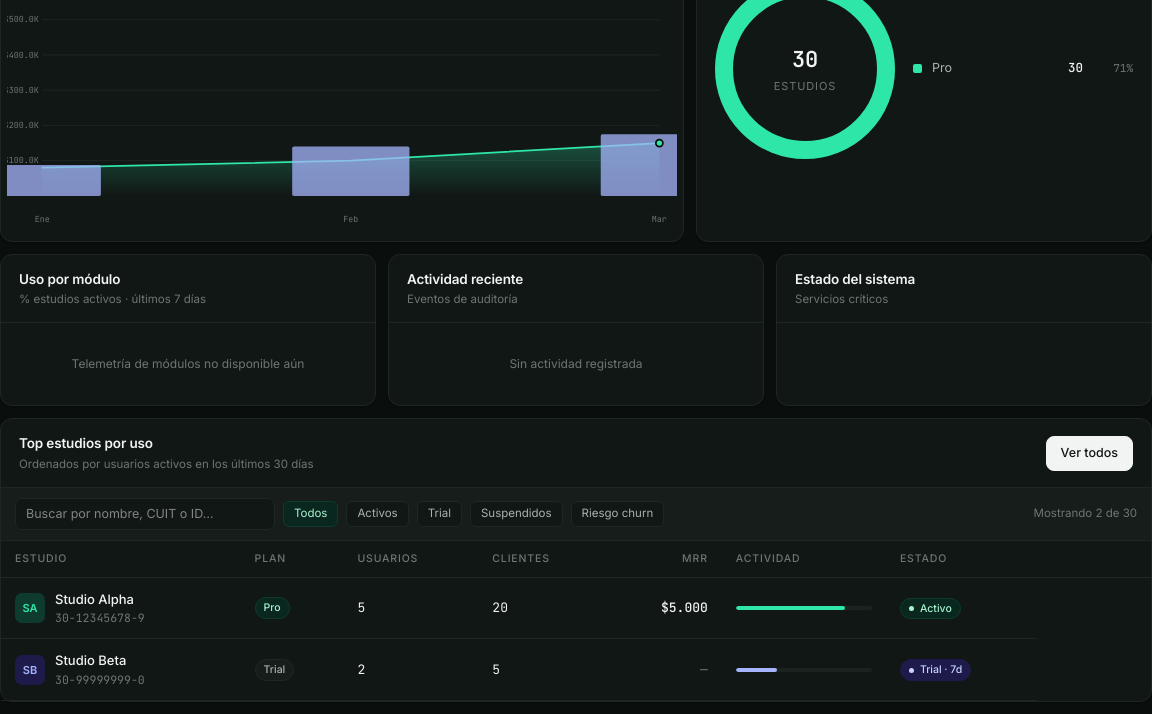
it: AdminDashboardPage › search filters studios by name
This screenshot has width=1152, height=714.
(page scrolled)
Expected: the text "Studio Alpha" is shown, [55,590,145,609]
Type "Beta" into the search field with placeholder "Buscar por nombre, CUIT o ID…" at (145, 514), box [15,498,275,530]
(page scrolled)
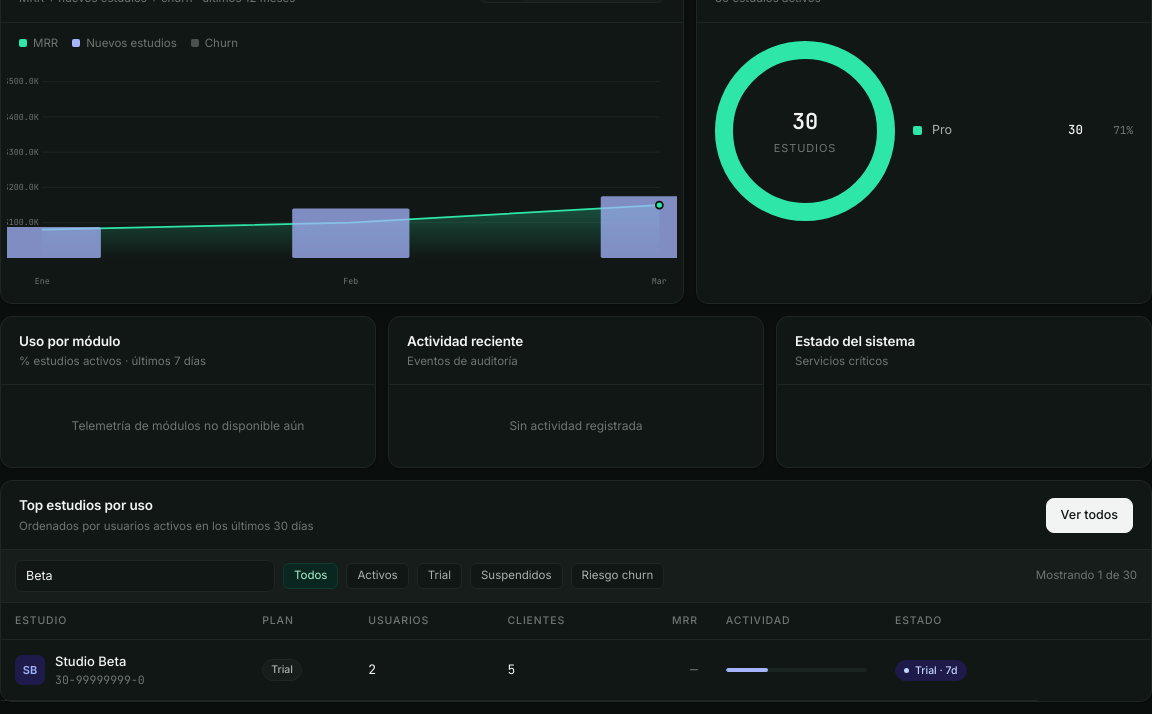
Expected: the text "Studio Beta" is shown, [55,653,126,669]
Now the text "Studio Alpha" is gone
